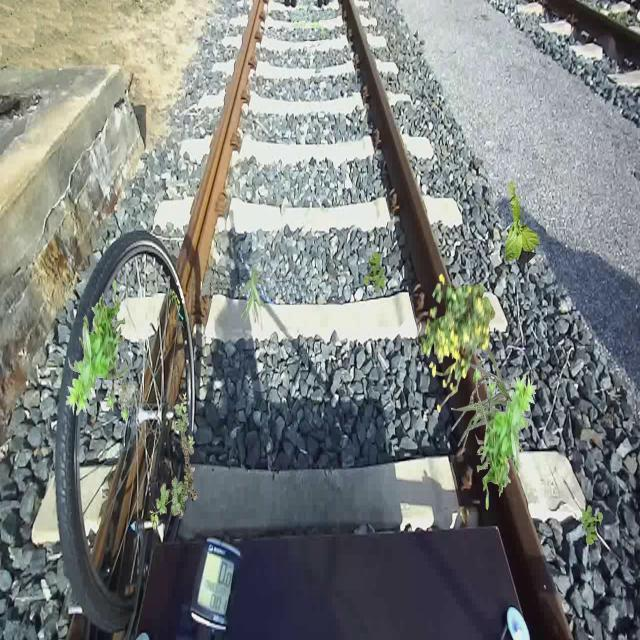Plant: (421, 273, 496, 413), (66, 280, 130, 423), (472, 367, 536, 510), (451, 331, 524, 456), (149, 392, 198, 530), (505, 180, 540, 264), (239, 269, 266, 326), (364, 252, 388, 293), (580, 505, 604, 546)
